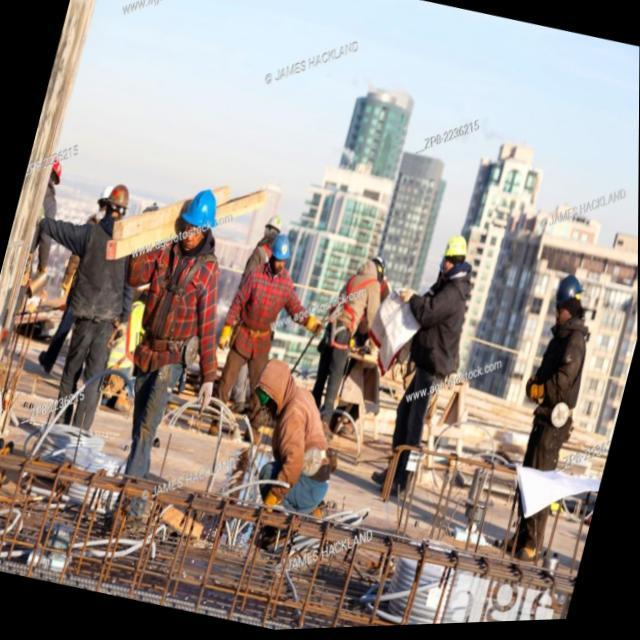belt: (134, 236, 220, 356), (530, 320, 596, 433), (316, 266, 382, 360)
